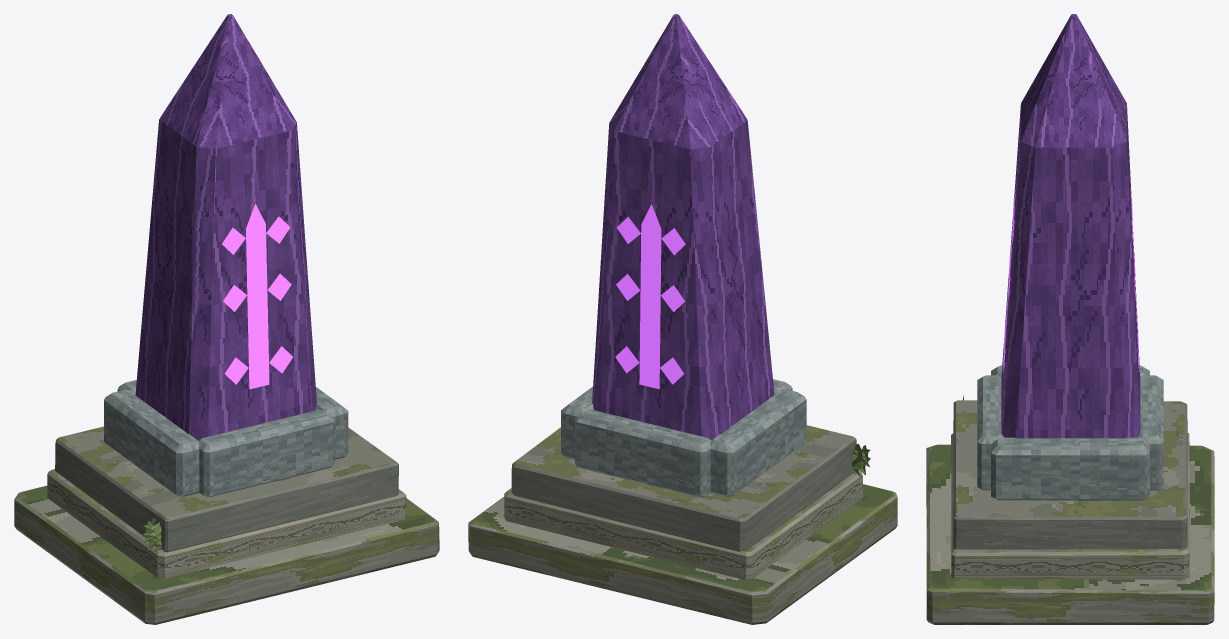
The model's file is shrine_challenge.glb.
The picture shows the model from 3 angles, left to right: view 1: azimuth 30°, elevation 25°; view 2: azimuth 150°, elevation 25°; view 3: azimuth 270°, elevation 25°; orthographic projection. The views are drawn at different scales.
Parts seen in each view (by area): view 1: shrine_challenge; view 2: shrine_challenge; view 3: shrine_challenge.
Boxes of the visible parts, x1,y1,x2,y2 form: shrine_challenge: [14, 14, 439, 624]; shrine_challenge: [468, 14, 897, 624]; shrine_challenge: [926, 14, 1214, 624].
Bounding box in the file's own units: 2.06 × 3.48 × 1.69.
4 materials, 2 textured.
